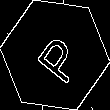P_NW: (26, 25, 84, 85)
